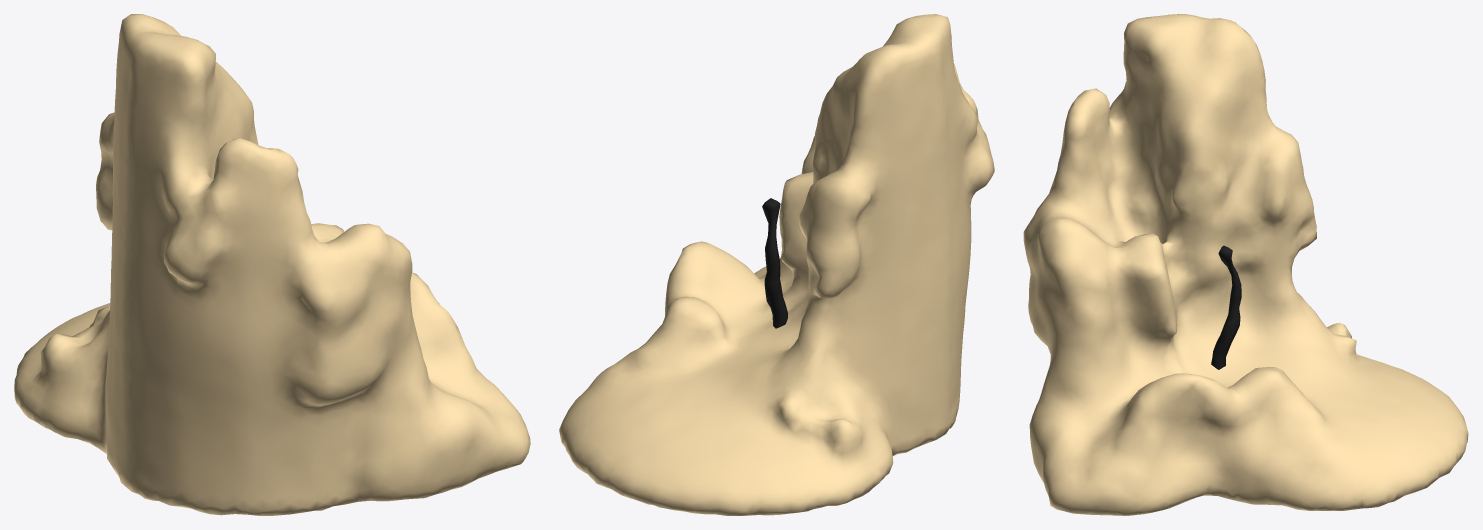
The model's file is SM_Melted_Candle_01.fbx.
3 renders of one model, left to right at view 1: azimuth 30°, elevation 25°; view 2: azimuth 150°, elevation 25°; view 3: azimuth 270°, elevation 25°, orthographic. The views are drawn at different scales.
Visible parts, largest first — view 1: Candle_Export; view 2: Candle_Export; view 3: Candle_Export.
Part boxes in pixels (x1,y1,x2,y2): Candle_Export: (14,14,530,515); Candle_Export: (559,14,994,515); Candle_Export: (1023,14,1468,515).
Size of the model in its own units: 8.4 by 10.26 by 10.95.
